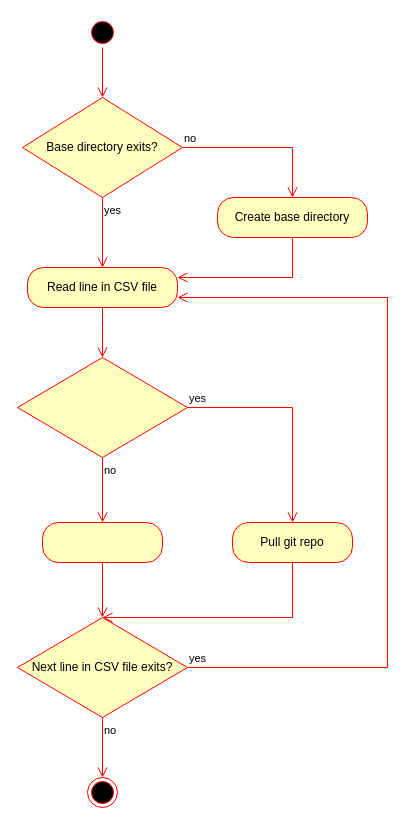
Image size: 415x825. Some labels were removed from this diagram. The centre of each missing label's shape, as x and y in pixels:
Clone git repo: pixel 102 542
Git repo in base directory exists?: pixel 102 407
